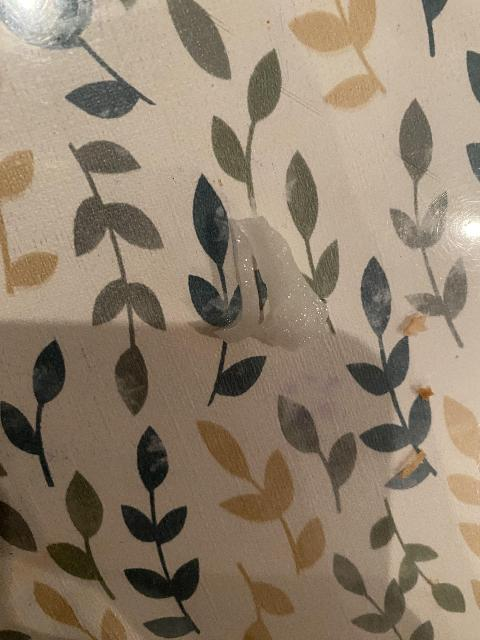Organik: (208, 208, 330, 351), (396, 448, 430, 480), (402, 312, 431, 339), (418, 382, 438, 401)
